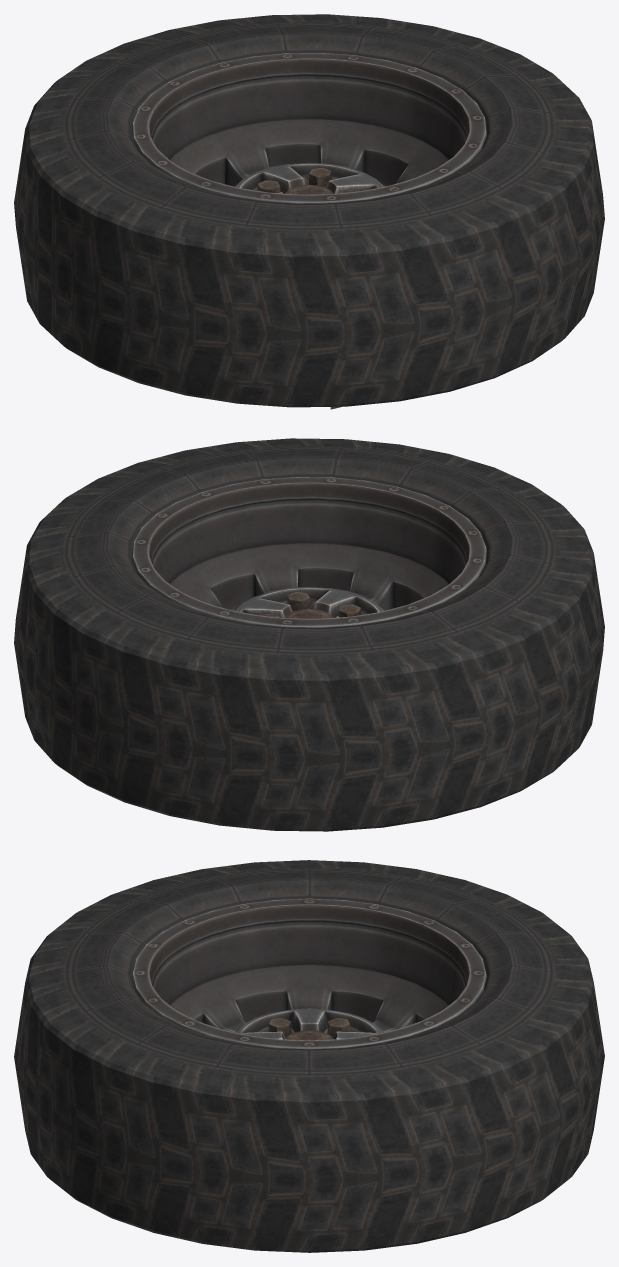
Rendered from Buggy_Wheel_LF.obj.
3 renders of one model, top to bottom at view 1: azimuth 30°, elevation 25°; view 2: azimuth 150°, elevation 25°; view 3: azimuth 270°, elevation 25°, orthographic.
Parts seen in each view (by area): view 1: LF_Wheel; view 2: LF_Wheel; view 3: LF_Wheel.
Part boxes in pixels (x1,y1,x2,y2): LF_Wheel: [14, 14, 604, 409]; LF_Wheel: [14, 438, 604, 831]; LF_Wheel: [14, 860, 604, 1252].
Size of the model in its own units: 0.7954 by 0.3717 by 0.7954.
2 materials, 2 textured.
